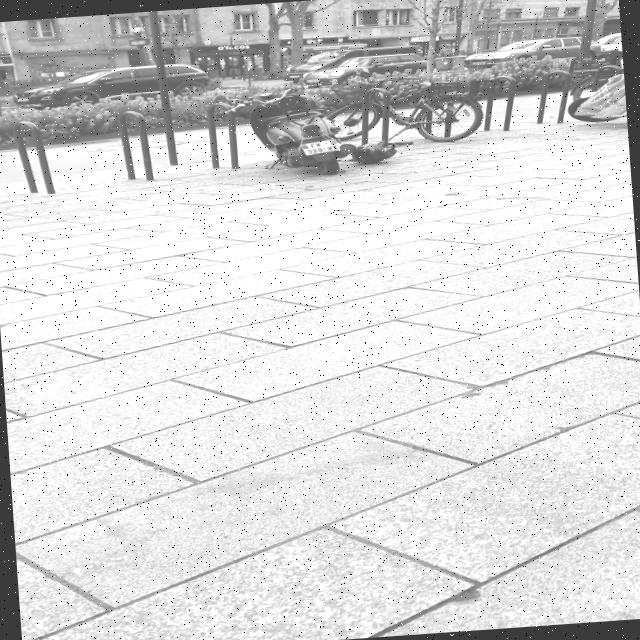EU: (300, 138, 341, 156)
France: (301, 143, 309, 149)
